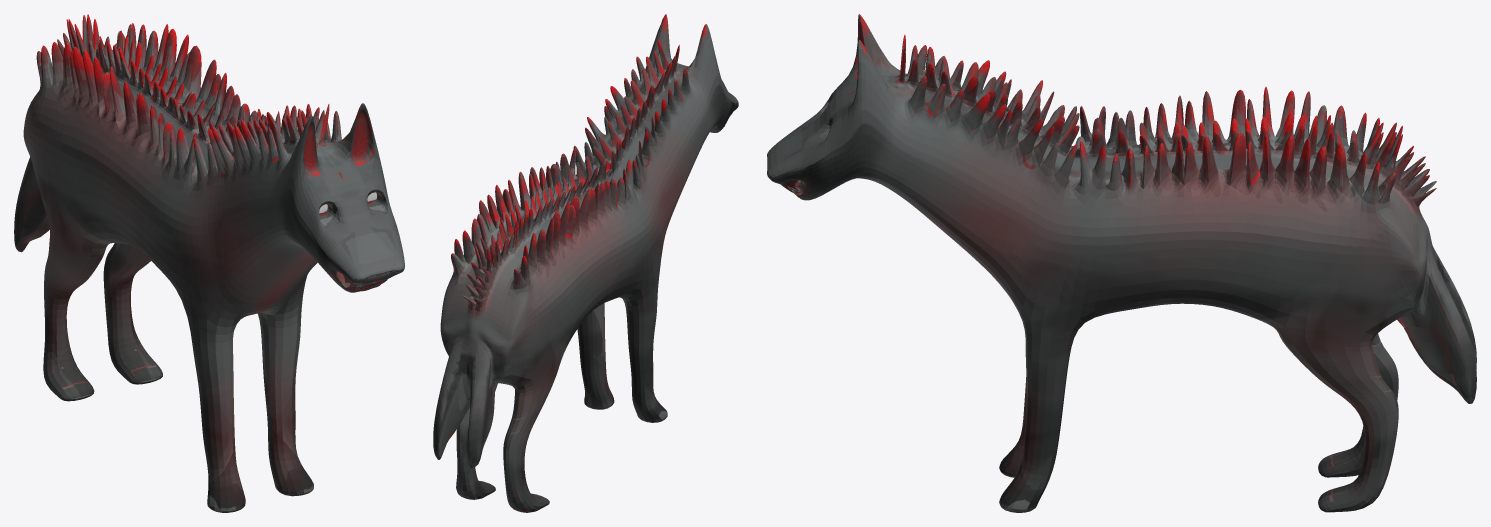
Rendered from Wolf.fbx.
3 views of the same model, side by side, from view 1: azimuth 30°, elevation 25°; view 2: azimuth 150°, elevation 25°; view 3: azimuth 270°, elevation 25° (orthographic). The views are drawn at different scales.
Parts seen in each view (by area): view 1: Cube; view 2: Cube; view 3: Cube.
Part boxes in pixels (x1,y1,x2,y2): Cube: [14, 14, 404, 512]; Cube: [433, 14, 738, 512]; Cube: [767, 14, 1476, 512].
Bounding box in the file's own units: 172 × 619 × 860.
Materials: 2 (1 with a texture image).
